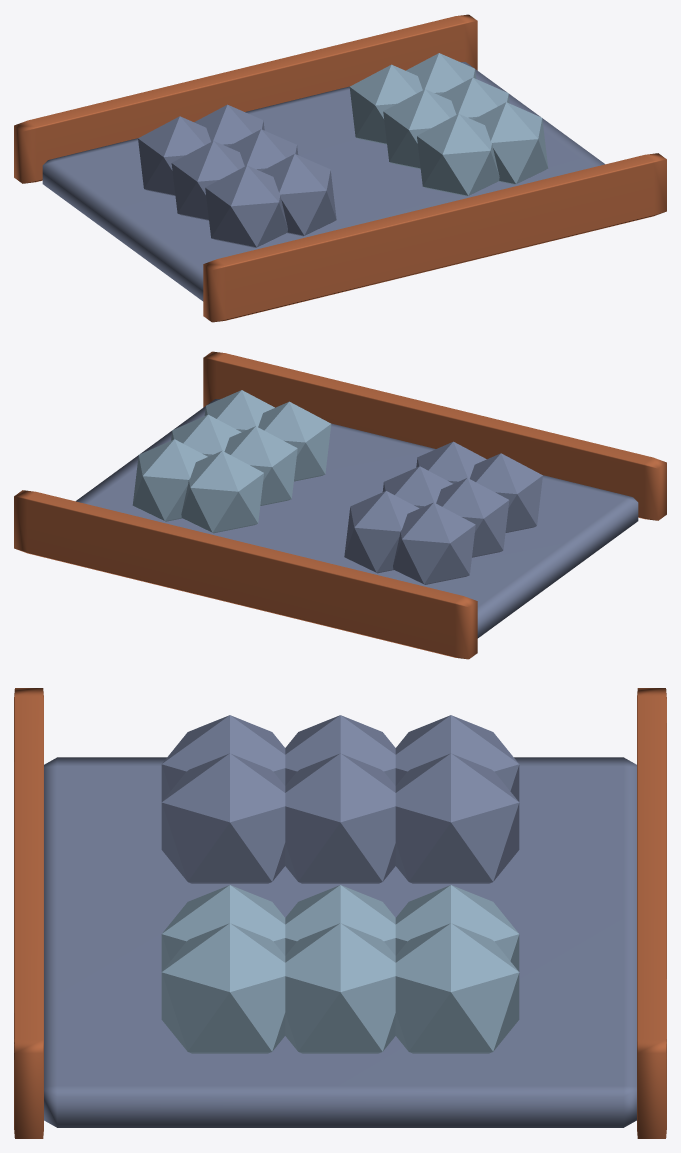
Rendered from ore_sorting_yard.glb.
3 views of the same model, one above another, from view 1: azimuth 30°, elevation 25°; view 2: azimuth 150°, elevation 25°; view 3: azimuth 270°, elevation 25° (orthographic). The views are drawn at different scales.
Parts seen in each view (by area): view 1: Sorting timber, Yard footing, Sorting timber.001, Sorted ore.006, Sorted ore, Sorted ore.007, Sorted ore.001, Sorted ore.004, Sorted ore.010, Sorted ore.002, Sorted ore.008, Sorted ore.003 (+3 smaller); view 2: Sorting timber.001, Yard footing, Sorting timber, Sorted ore.010, Sorted ore.004, Sorted ore.011, Sorted ore.005, Sorted ore, Sorted ore.006, Sorted ore.002, Sorted ore.008, Sorted ore.003 (+3 smaller); view 3: Yard footing, Sorted ore.007, Sorted ore.011, Sorted ore.001, Sorted ore.005, Sorting timber, Sorting timber.001, Sorted ore.009, Sorted ore.003, Sorted ore, Sorted ore.004, Sorted ore.006 (+3 smaller).
Boxes of the visible parts, box(x1,y1,x2,y2) form: Sorting timber: box(203, 153, 666, 322); Yard footing: box(42, 62, 604, 301); Sorting timber.001: box(14, 14, 477, 183); Sorted ore.006: box(417, 114, 499, 196); Sorted ore: box(205, 165, 287, 247); Sorted ore.007: box(473, 102, 548, 184); Sorted ore.001: box(261, 154, 336, 236); Sorted ore.004: box(138, 116, 210, 195); Sorted ore.010: box(349, 64, 422, 144); Sorted ore.002: box(171, 141, 244, 220); Sorted ore.008: box(383, 89, 456, 168); Sorted ore.003: box(228, 129, 298, 171); Sorting timber.001: box(14, 490, 477, 659); Yard footing: box(76, 399, 638, 638); Sorting timber: box(203, 351, 666, 520); Sorted ore.010: box(181, 451, 263, 533); Sorted ore.004: box(393, 502, 475, 584); Sorted ore.011: box(132, 439, 207, 521); Sorted ore.005: box(344, 491, 419, 573); Sorted ore: box(470, 453, 542, 532); Sorted ore.006: box(258, 401, 331, 481); Sorted ore.002: box(436, 478, 509, 557); Sorted ore.008: box(224, 426, 297, 505); Sorted ore.003: box(382, 466, 452, 508); Yard footing: box(44, 757, 636, 1127); Sorted ore.007: box(161, 923, 285, 1053); Sorted ore.011: box(395, 923, 519, 1053); Sorted ore.001: box(161, 753, 285, 883); Sorted ore.005: box(395, 753, 519, 883); Sorting timber: box(14, 688, 43, 1138); Sorting timber.001: box(637, 688, 666, 1138); Sorted ore.009: box(285, 923, 395, 1053); Sorted ore.003: box(285, 753, 395, 883); Sorted ore: box(161, 715, 285, 801); Sorted ore.004: box(395, 715, 519, 801); Sorted ore.006: box(161, 885, 285, 971).
Bounding box in the file's own units: 4.3 × 0.8 × 3.25.
